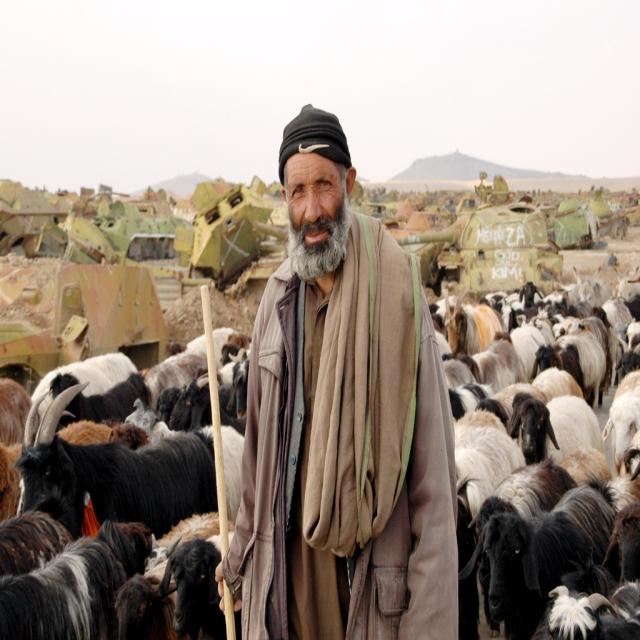sheep: (467, 487, 592, 636)
